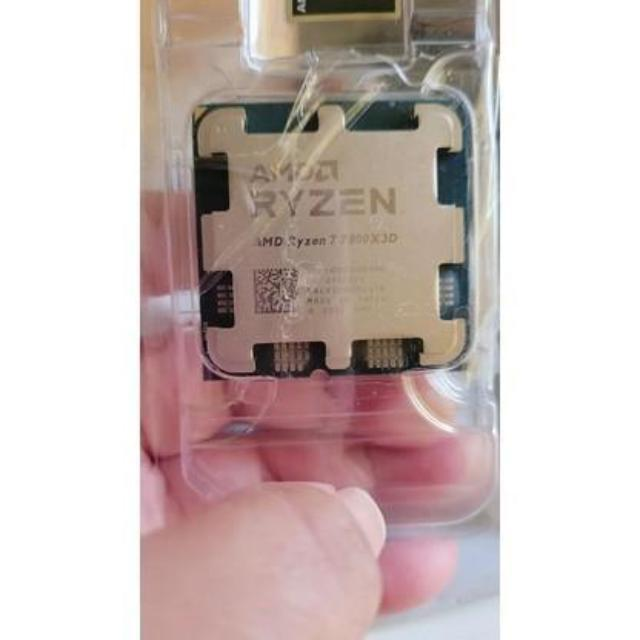CPU: (195, 108, 468, 370)
